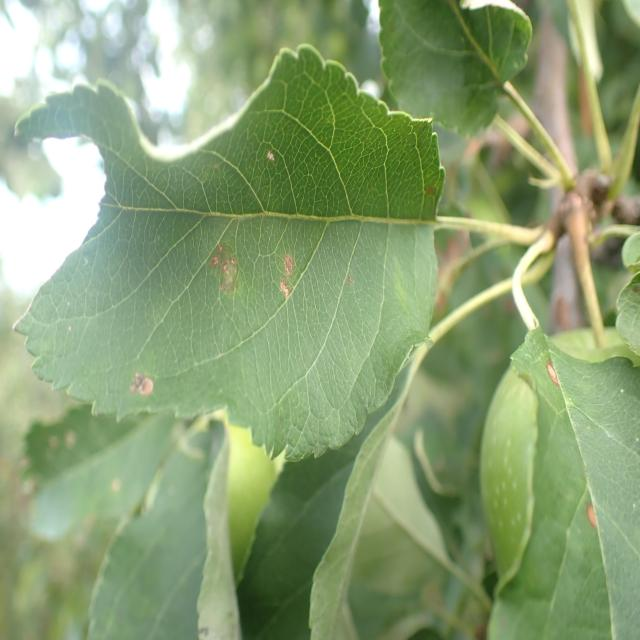frog-eye-leaf-spot: (12, 44, 448, 464)
